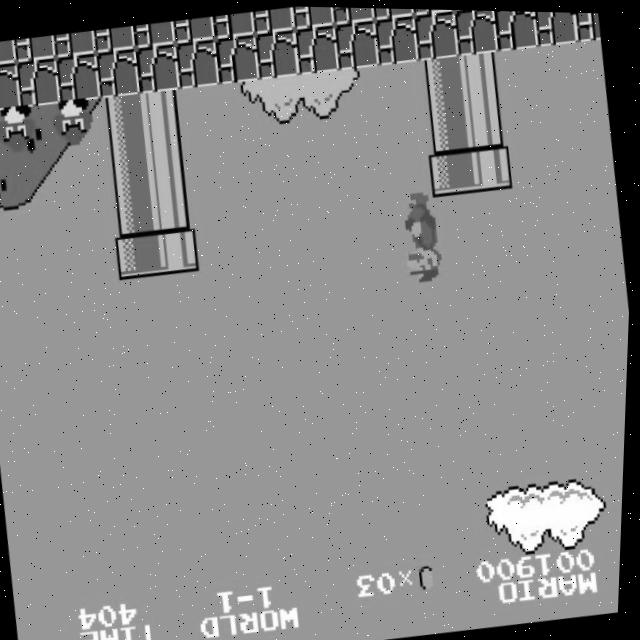0- big_mario: (396, 188, 455, 288)
14- pipe: (144, 133, 193, 185), (149, 179, 198, 230), (463, 94, 511, 146), (423, 99, 471, 151), (418, 54, 466, 106), (140, 88, 188, 140), (105, 138, 153, 190), (100, 93, 148, 145), (458, 49, 506, 100), (110, 184, 158, 235)
15- pipe_head: (155, 224, 203, 276), (468, 140, 516, 191), (428, 145, 476, 196), (115, 229, 163, 280)
17- undestructible_block: (333, 18, 382, 70), (174, 37, 223, 89), (134, 42, 183, 94), (55, 52, 104, 104), (413, 8, 461, 60), (373, 13, 421, 65), (254, 27, 302, 79), (214, 32, 262, 84), (95, 47, 143, 99), (15, 57, 63, 109), (294, 23, 342, 74), (453, 8, 501, 55), (492, 9, 540, 49), (532, 9, 580, 45), (212, 10, 257, 39), (172, 15, 217, 44), (53, 29, 98, 58), (13, 35, 58, 64), (252, 5, 296, 34), (133, 20, 177, 49), (93, 25, 137, 53), (0, 62, 23, 113), (291, 5, 336, 29), (573, 10, 602, 40), (332, 6, 376, 24), (371, 6, 415, 19), (0, 40, 18, 68), (411, 7, 455, 14)
8- goomba: (50, 95, 101, 151), (0, 102, 43, 158)
